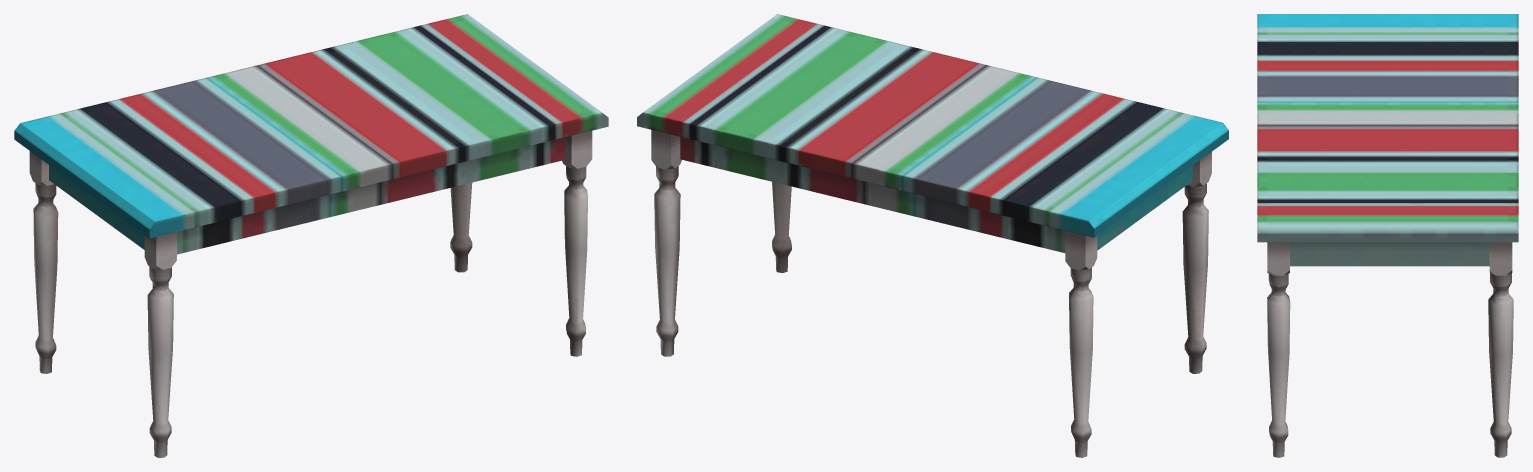
Rendered from furni_0200606_01.FBX.
3 renders of one model, left to right at view 1: azimuth 30°, elevation 25°; view 2: azimuth 150°, elevation 25°; view 3: azimuth 270°, elevation 25°, orthographic. The views are drawn at different scales.
Parts seen in each view (by area): view 1: furni_0200606_01; view 2: furni_0200606_01; view 3: furni_0200606_01.
Part boxes in pixels (x1=…): furni_0200606_01: x1=14, y1=14, x2=608, y2=457; furni_0200606_01: x1=637, y1=14, x2=1228, y2=457; furni_0200606_01: x1=1257, y1=14, x2=1518, y2=457.
Bounding box in the file's own units: 157 × 80.16 × 80.
Materials: 1 (1 with a texture image).
